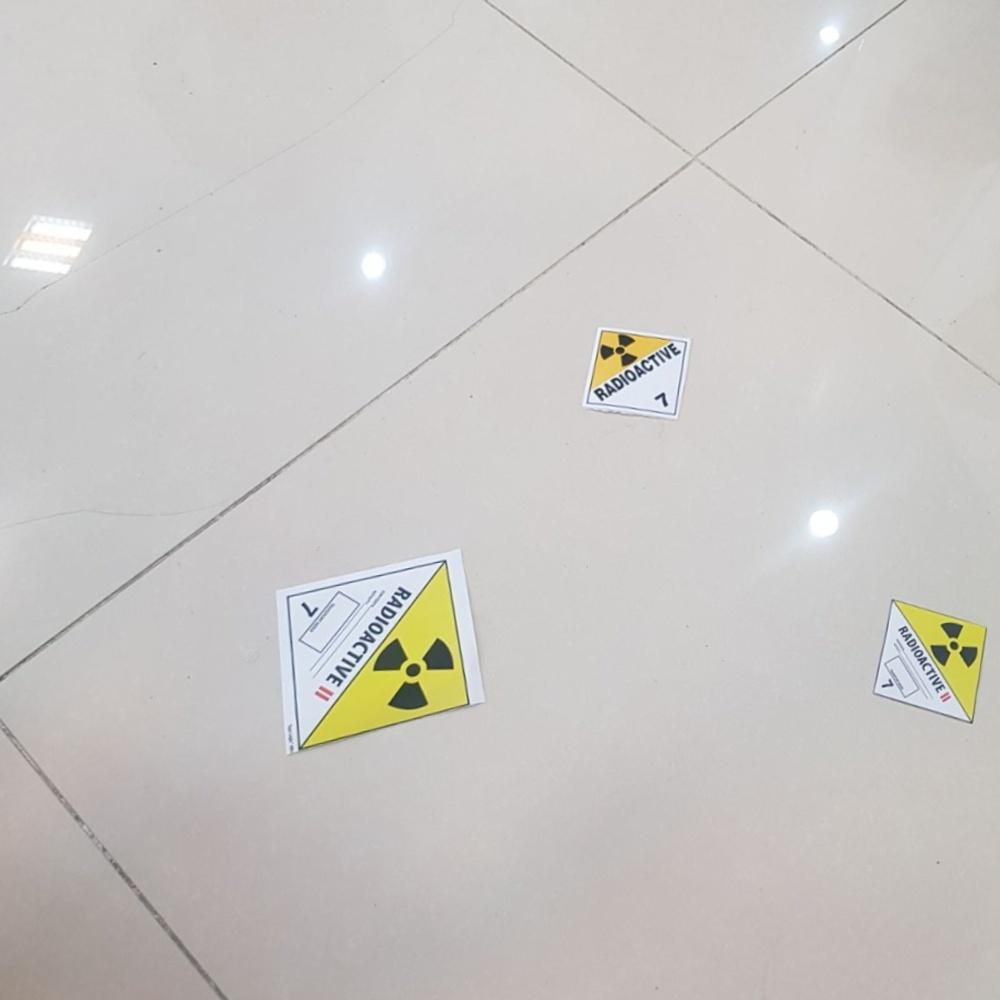radioactive: (268, 544, 489, 759), (865, 587, 993, 735), (577, 321, 693, 433)
